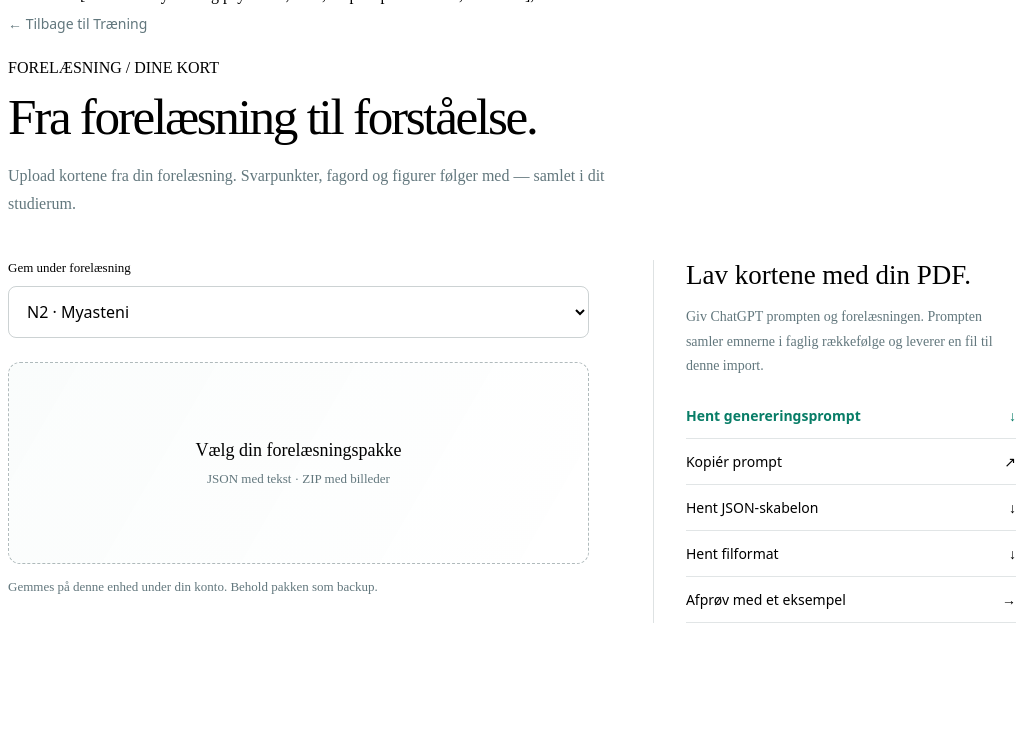
Test: an unchanged active package remains a duplicate, with a clear explanation
Click the button "Afprøv med et eksempel →" at {"x": 766, "y": 599}, box [686,576,1016,622]
(page scrolled)
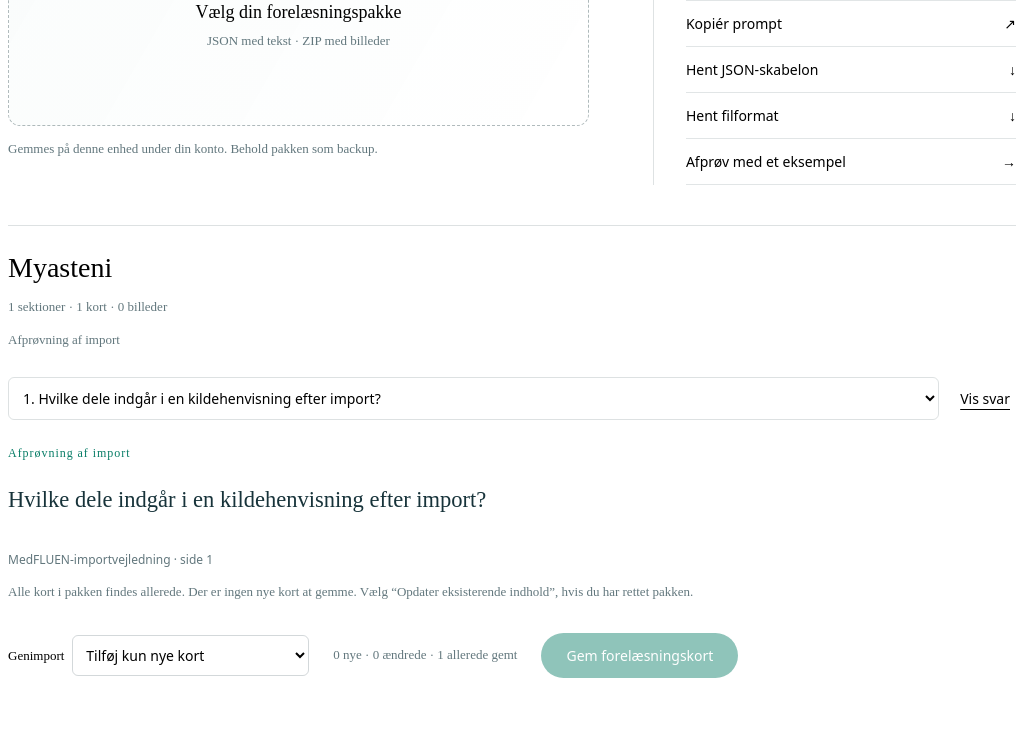
Result: the button "Gem forelæsningskort" is disabled at [542,633,738,678]
Result: the text "Alle kort i pakken findes allerede" is shown at [8,584,357,599]
